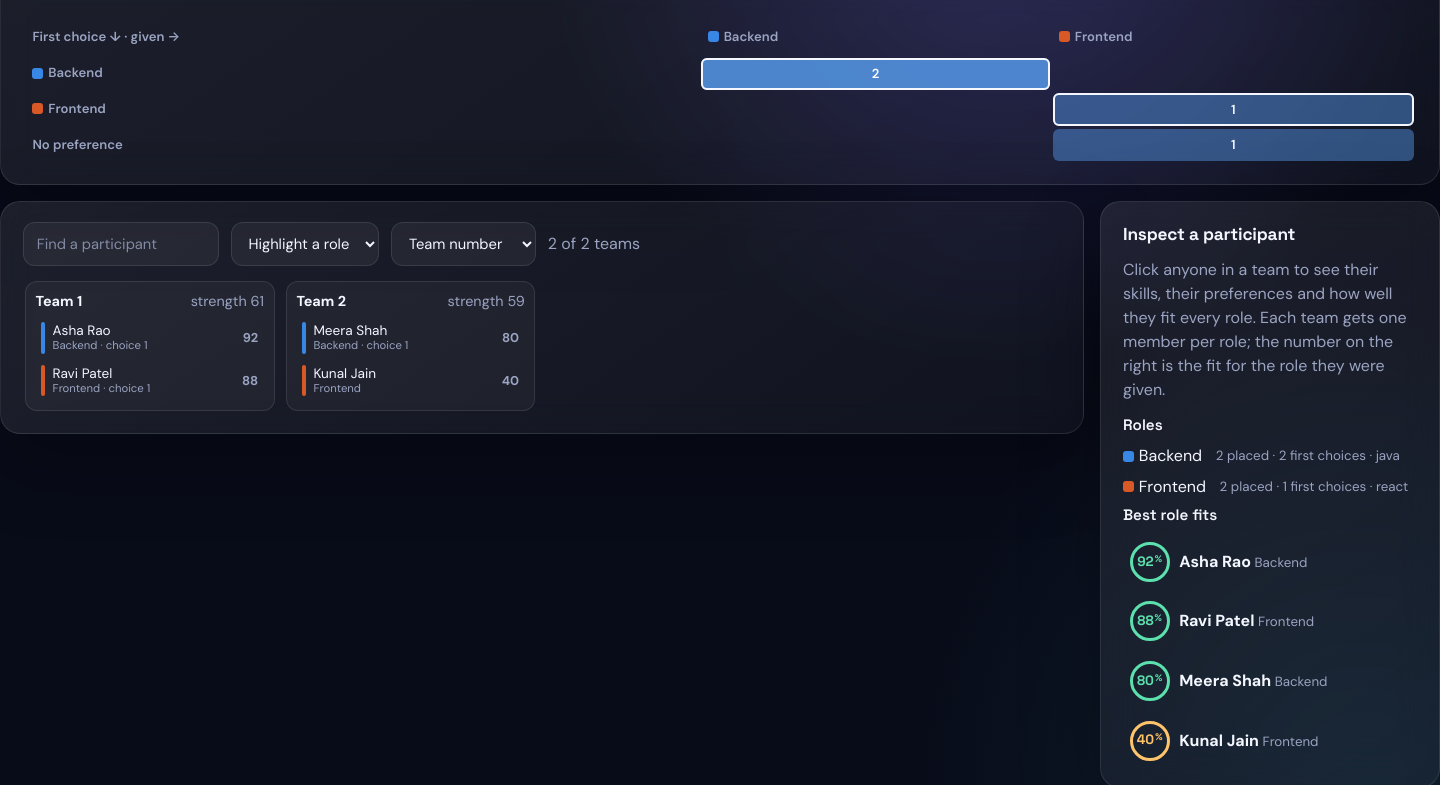
Test: TeamSynthesisPage › opens a participant to show skills and fit for every role
The image size is (1440, 785).
(page scrolled)
Click the button "Kunal Jain Frontend 40": (411,380) [296,360,525,400]
(page scrolled)
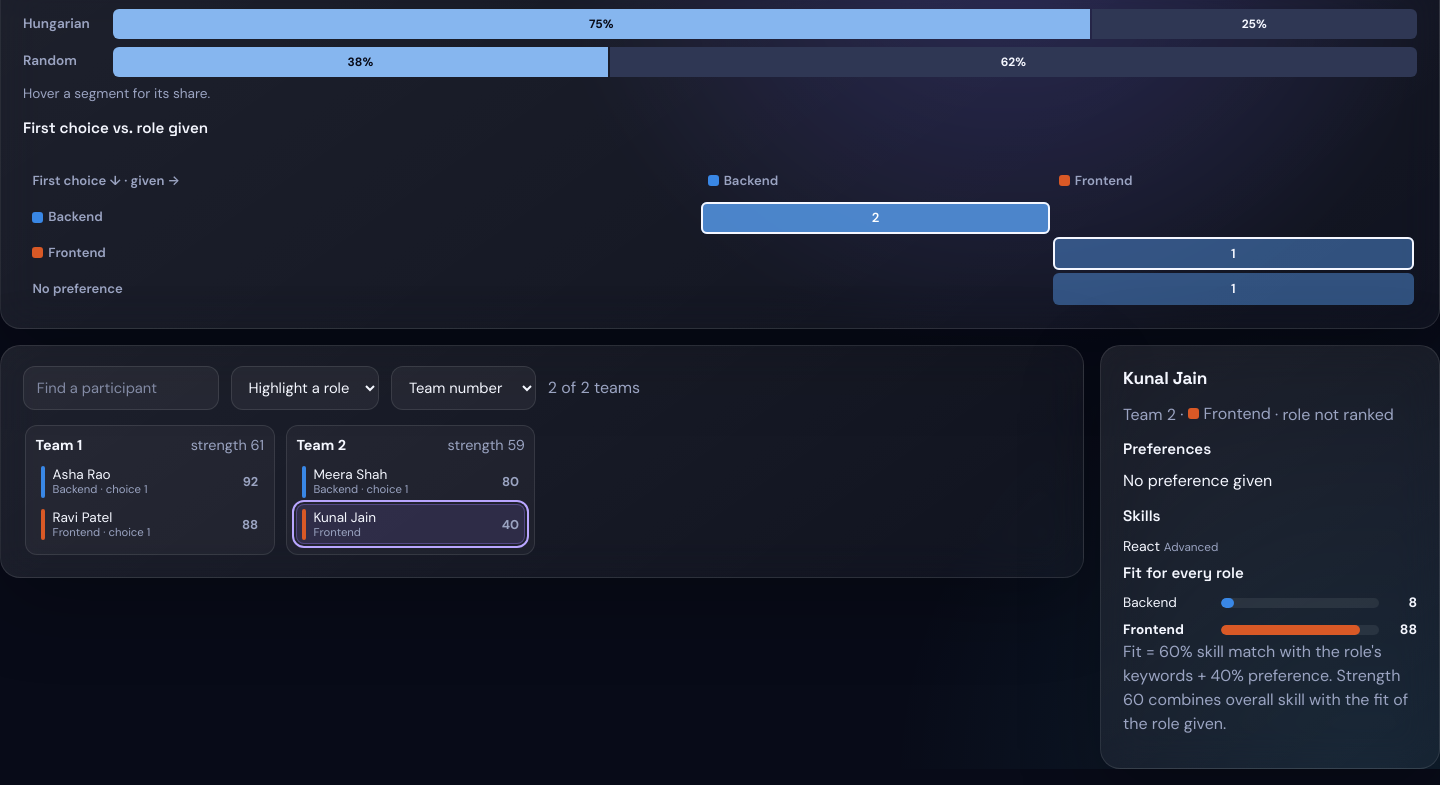
Expected: the heading "Kunal Jain" is shown, [1123,367,1207,389]
Expected: the text "Team 2 · Frontend · role not ranked" is shown, [1123,402,1417,426]
Expected: the text "No preference given" is shown, [1123,470,1272,491]
